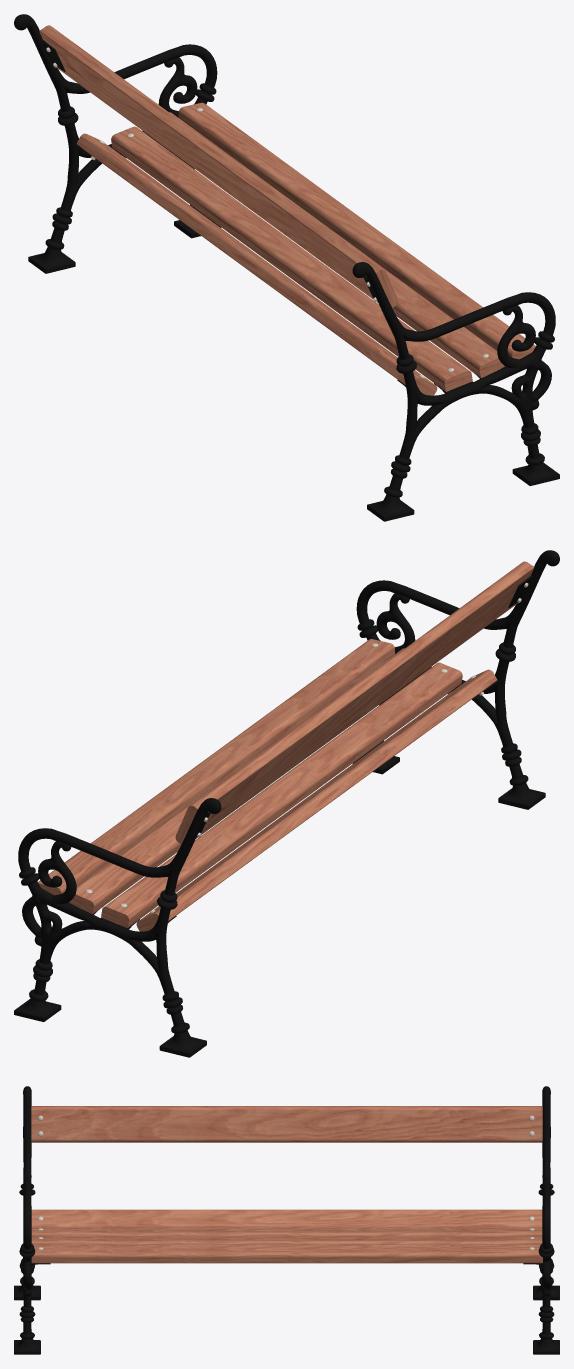
The picture shows the model from 3 angles, top to bottom: view 1: azimuth 30°, elevation 25°; view 2: azimuth 150°, elevation 25°; view 3: azimuth 270°, elevation 25°; orthographic projection. The views are drawn at different scales.
Parts seen in each view (by area): view 1: BenchSupport, Rectangle013, Rectangle015, Rectangle003, BenchSupport002, Rectangle014, Rectangle012; view 2: BenchSupport002, Rectangle013, Rectangle015, Rectangle003, BenchSupport, Rectangle014, Rectangle012; view 3: Rectangle015, Rectangle003, Rectangle014, Rectangle013, Rectangle012, BenchSupport, BenchSupport002.
Boxes of the visible parts, x1,y1,x2,y2 form: BenchSupport: [352, 262, 559, 521]; Rectangle013: [111, 126, 472, 391]; Rectangle015: [39, 25, 398, 308]; Rectangle003: [178, 102, 535, 359]; BenchSupport002: [14, 14, 221, 273]; Rectangle014: [76, 133, 437, 395]; Rectangle012: [169, 112, 504, 377]; BenchSupport002: [14, 798, 221, 1057]; Rectangle013: [101, 662, 462, 927]; Rectangle015: [175, 561, 534, 844]; Rectangle003: [38, 639, 394, 895]; BenchSupport: [352, 550, 559, 809]; Rectangle014: [136, 669, 497, 931]; Rectangle012: [69, 648, 404, 914]; Rectangle015: [31, 1106, 542, 1142]; Rectangle003: [31, 1244, 542, 1263]; Rectangle014: [31, 1209, 542, 1227]; Rectangle013: [31, 1227, 542, 1236]; Rectangle012: [31, 1236, 542, 1244]; BenchSupport: [14, 1086, 50, 1354]; BenchSupport002: [523, 1086, 559, 1354].
Bounding box in the file's own units: 66.47 × 80.65 × 203.
Materials: 3 (3 with a texture image).
